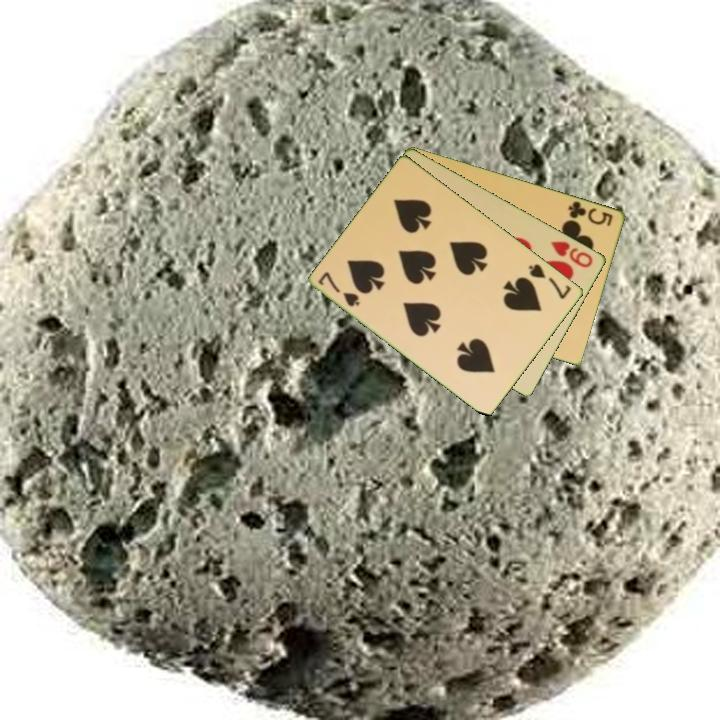5c: (565, 197, 616, 229)
7s: (525, 260, 574, 302), (315, 268, 363, 309)
9h: (548, 237, 596, 271)
